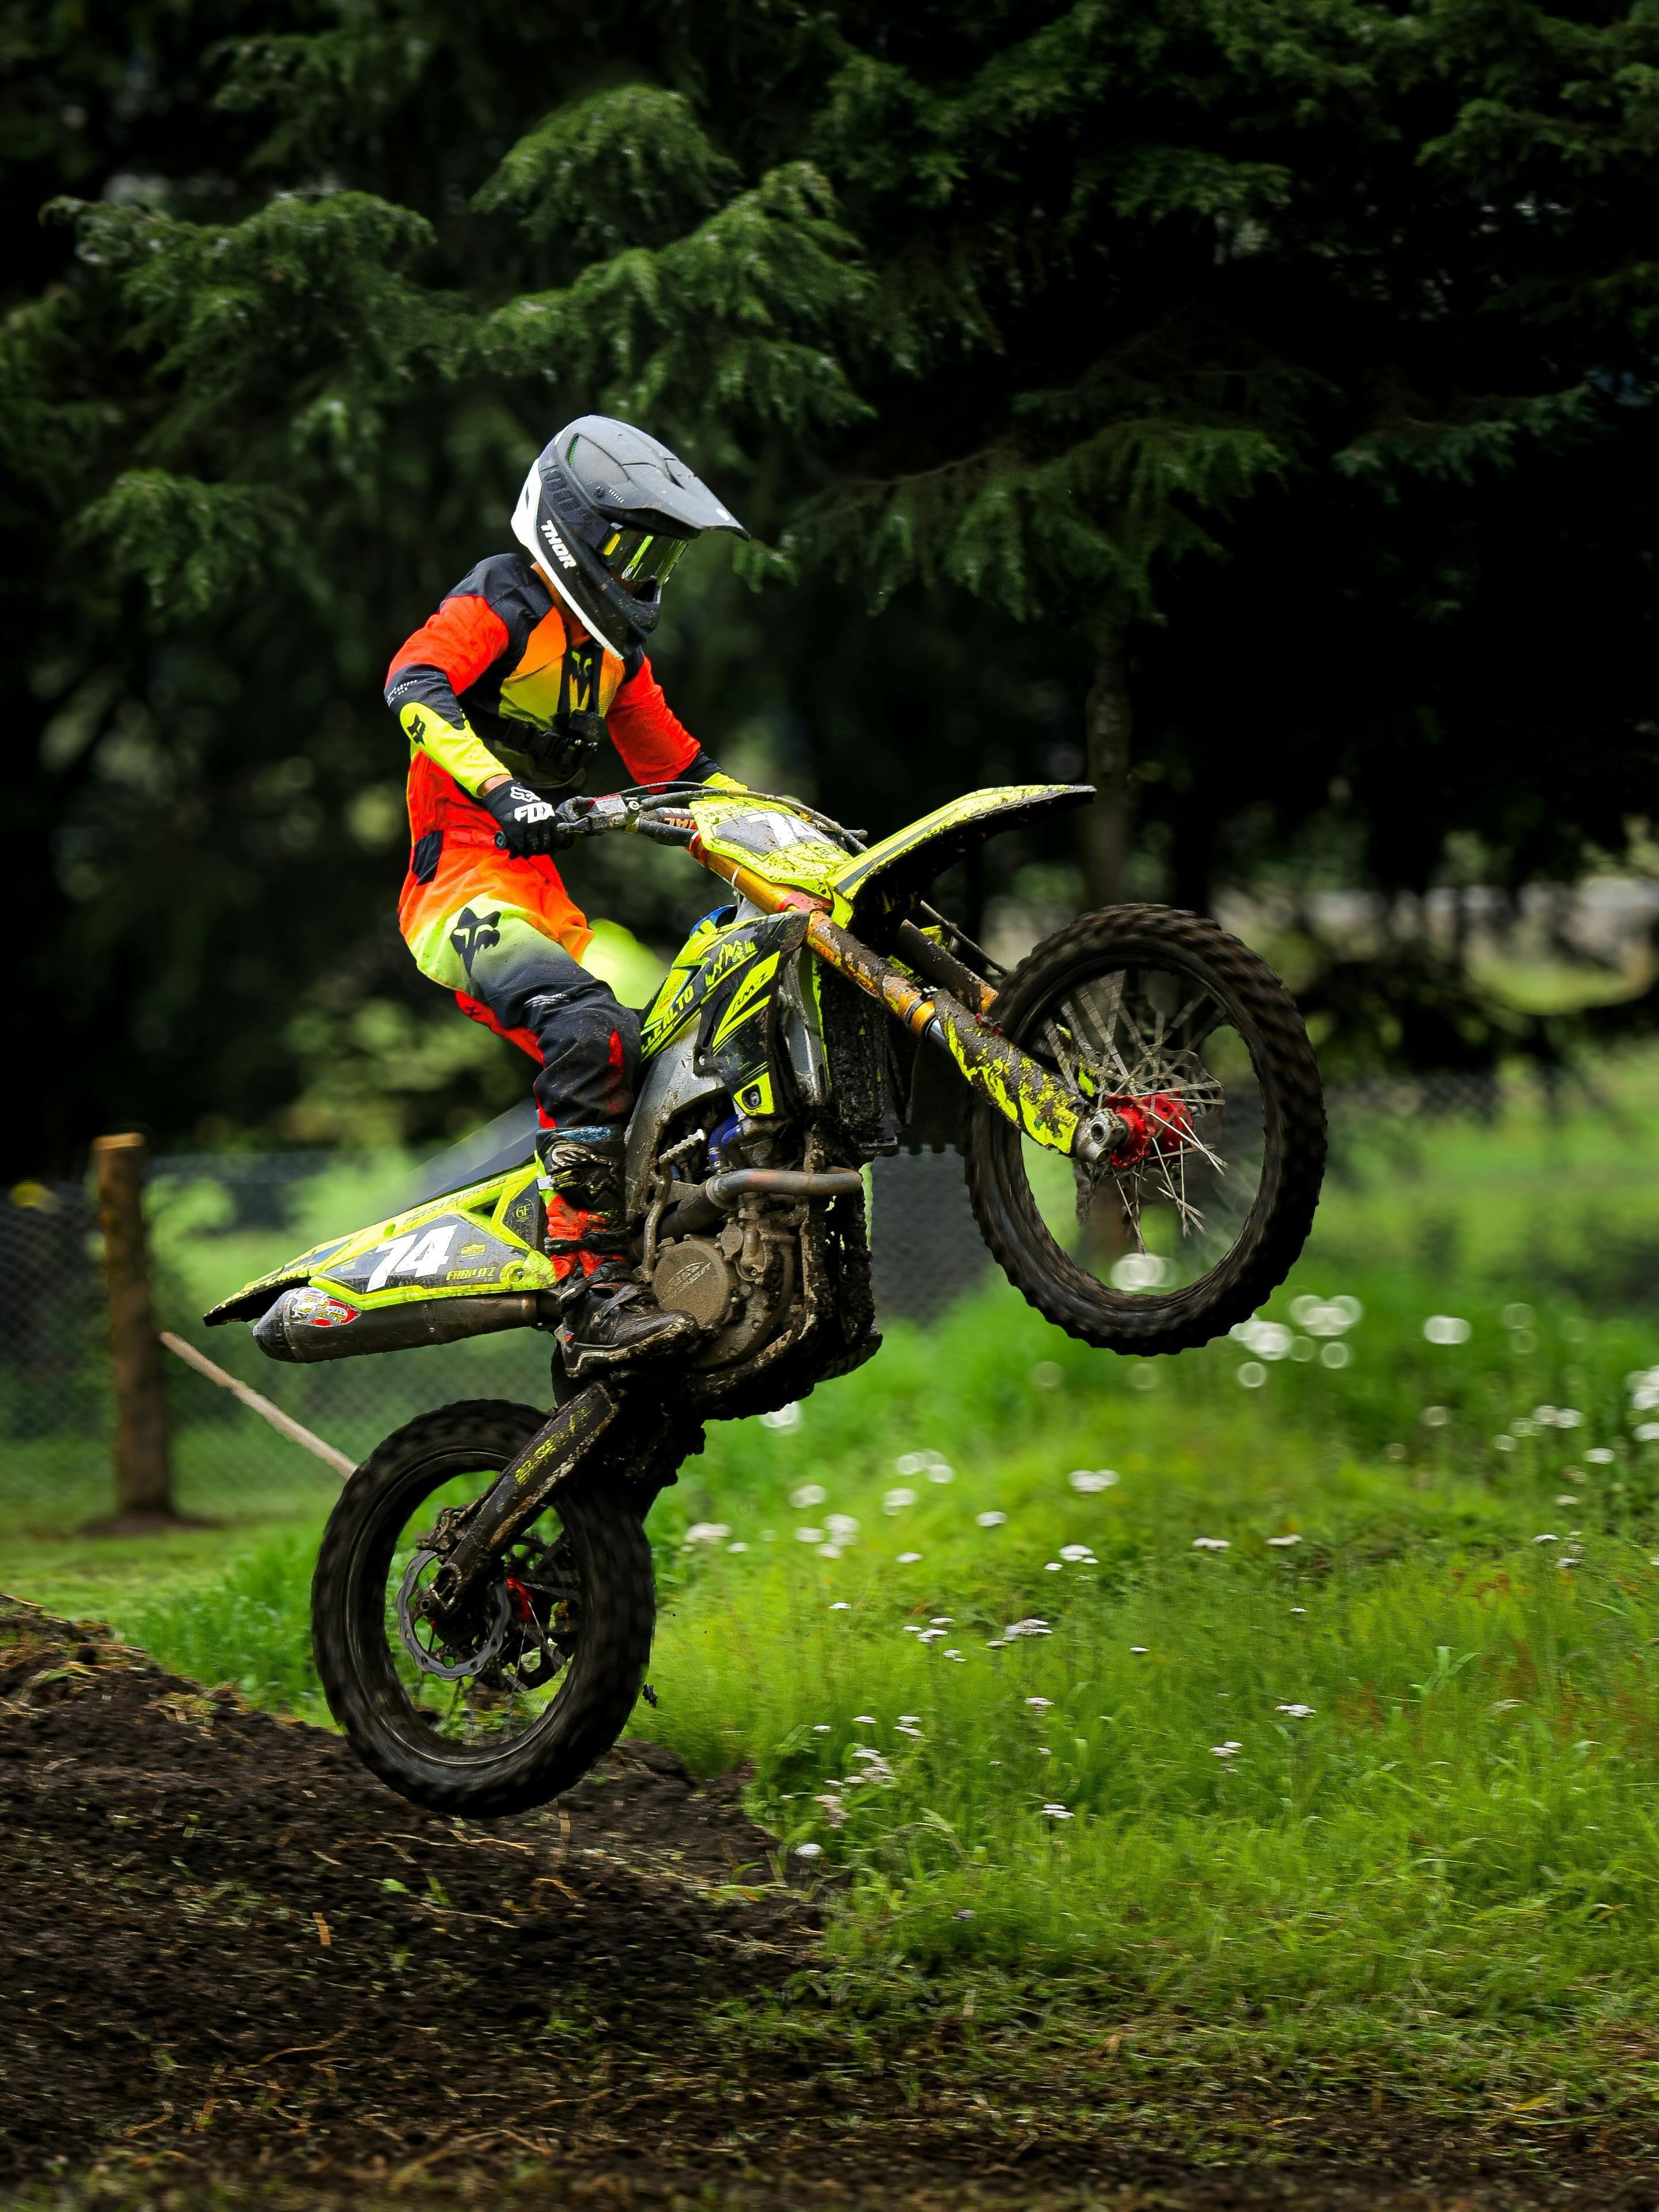capacete: (497, 408, 749, 665)
